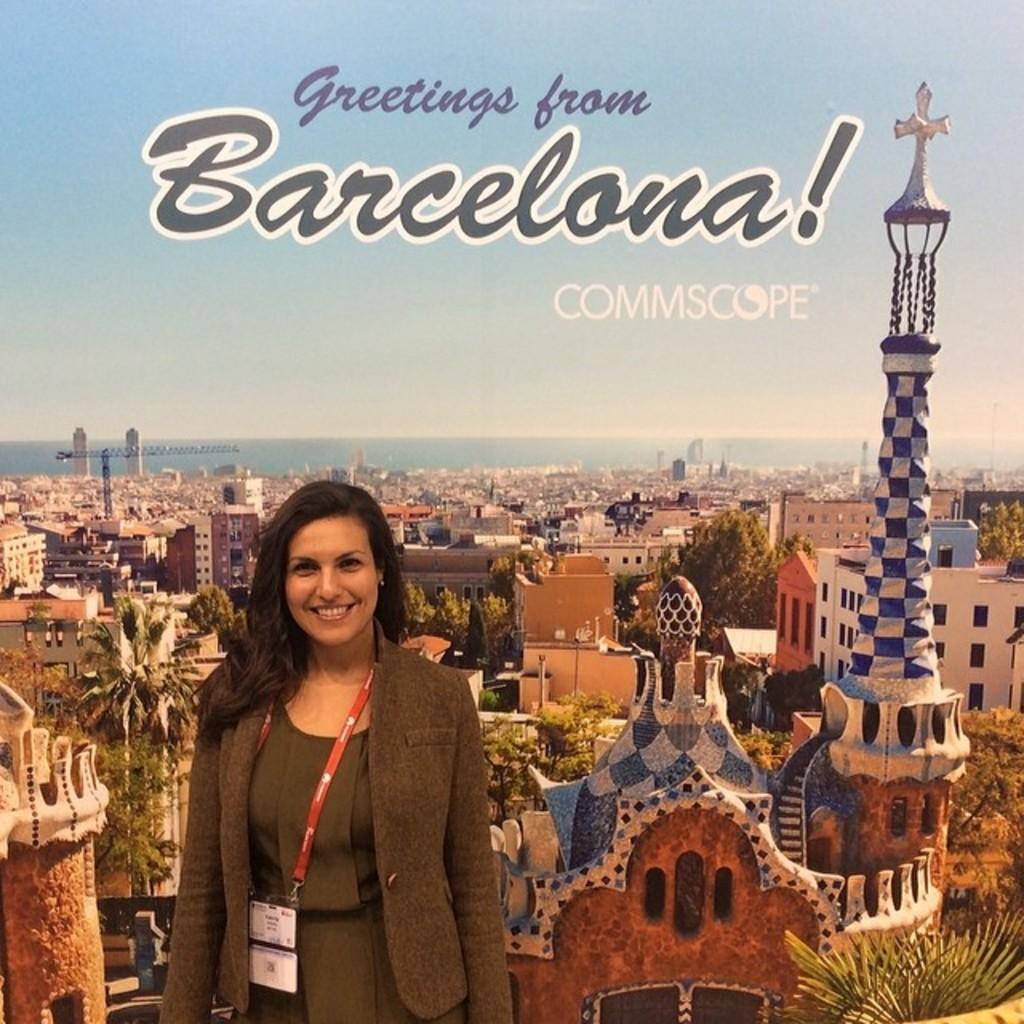Sem Máscara: (280, 510, 373, 643)
